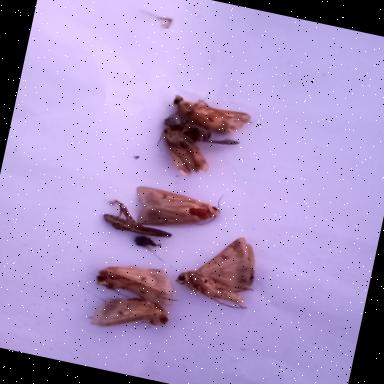abw: (170, 218, 270, 316), (126, 172, 231, 244), (85, 288, 181, 346), (150, 115, 223, 182), (167, 88, 260, 140), (86, 256, 180, 306)
